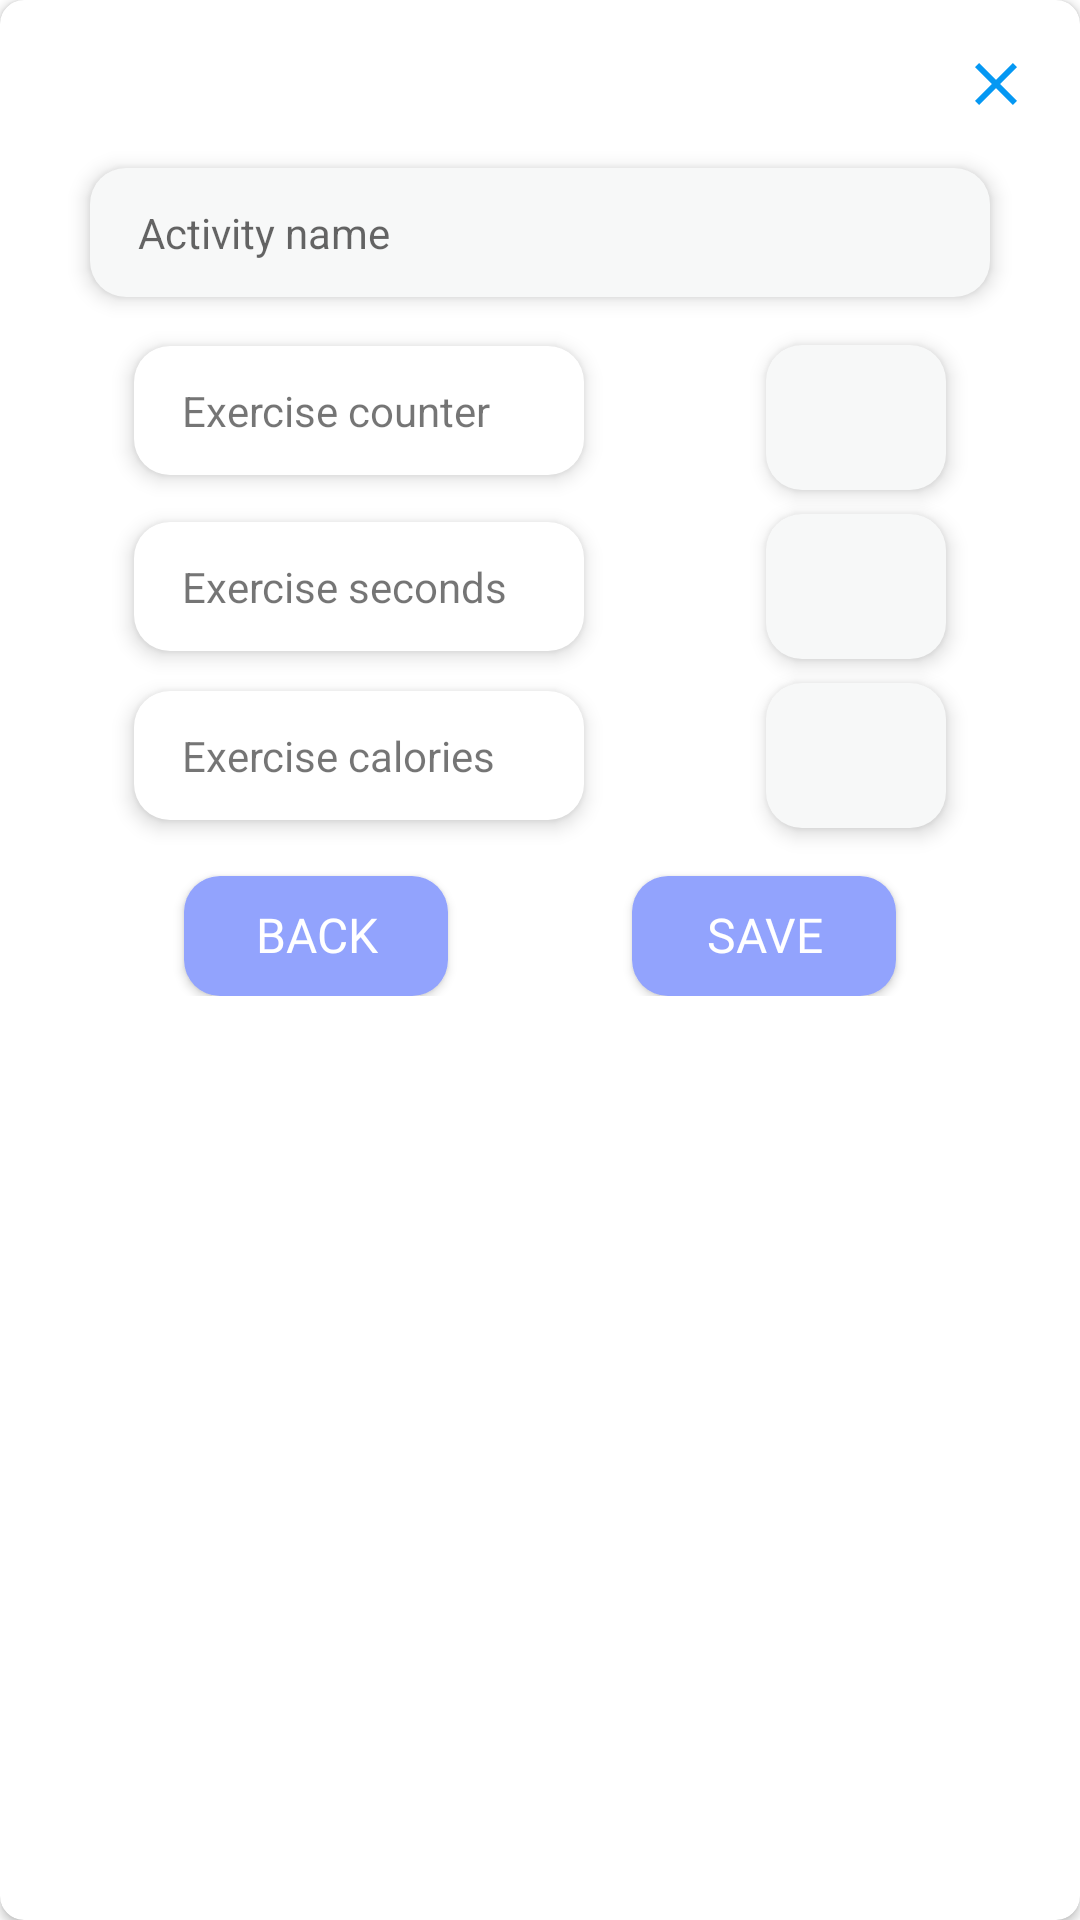

Locate icon controls on the screen. Image size 1080w x 1920h, boxes as (x1, y1, x2, y2).
close: (975, 63, 1017, 105)
